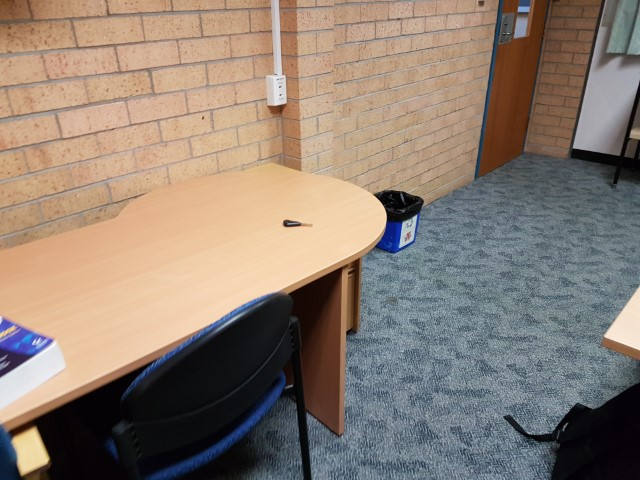key: (283, 219, 314, 229)
